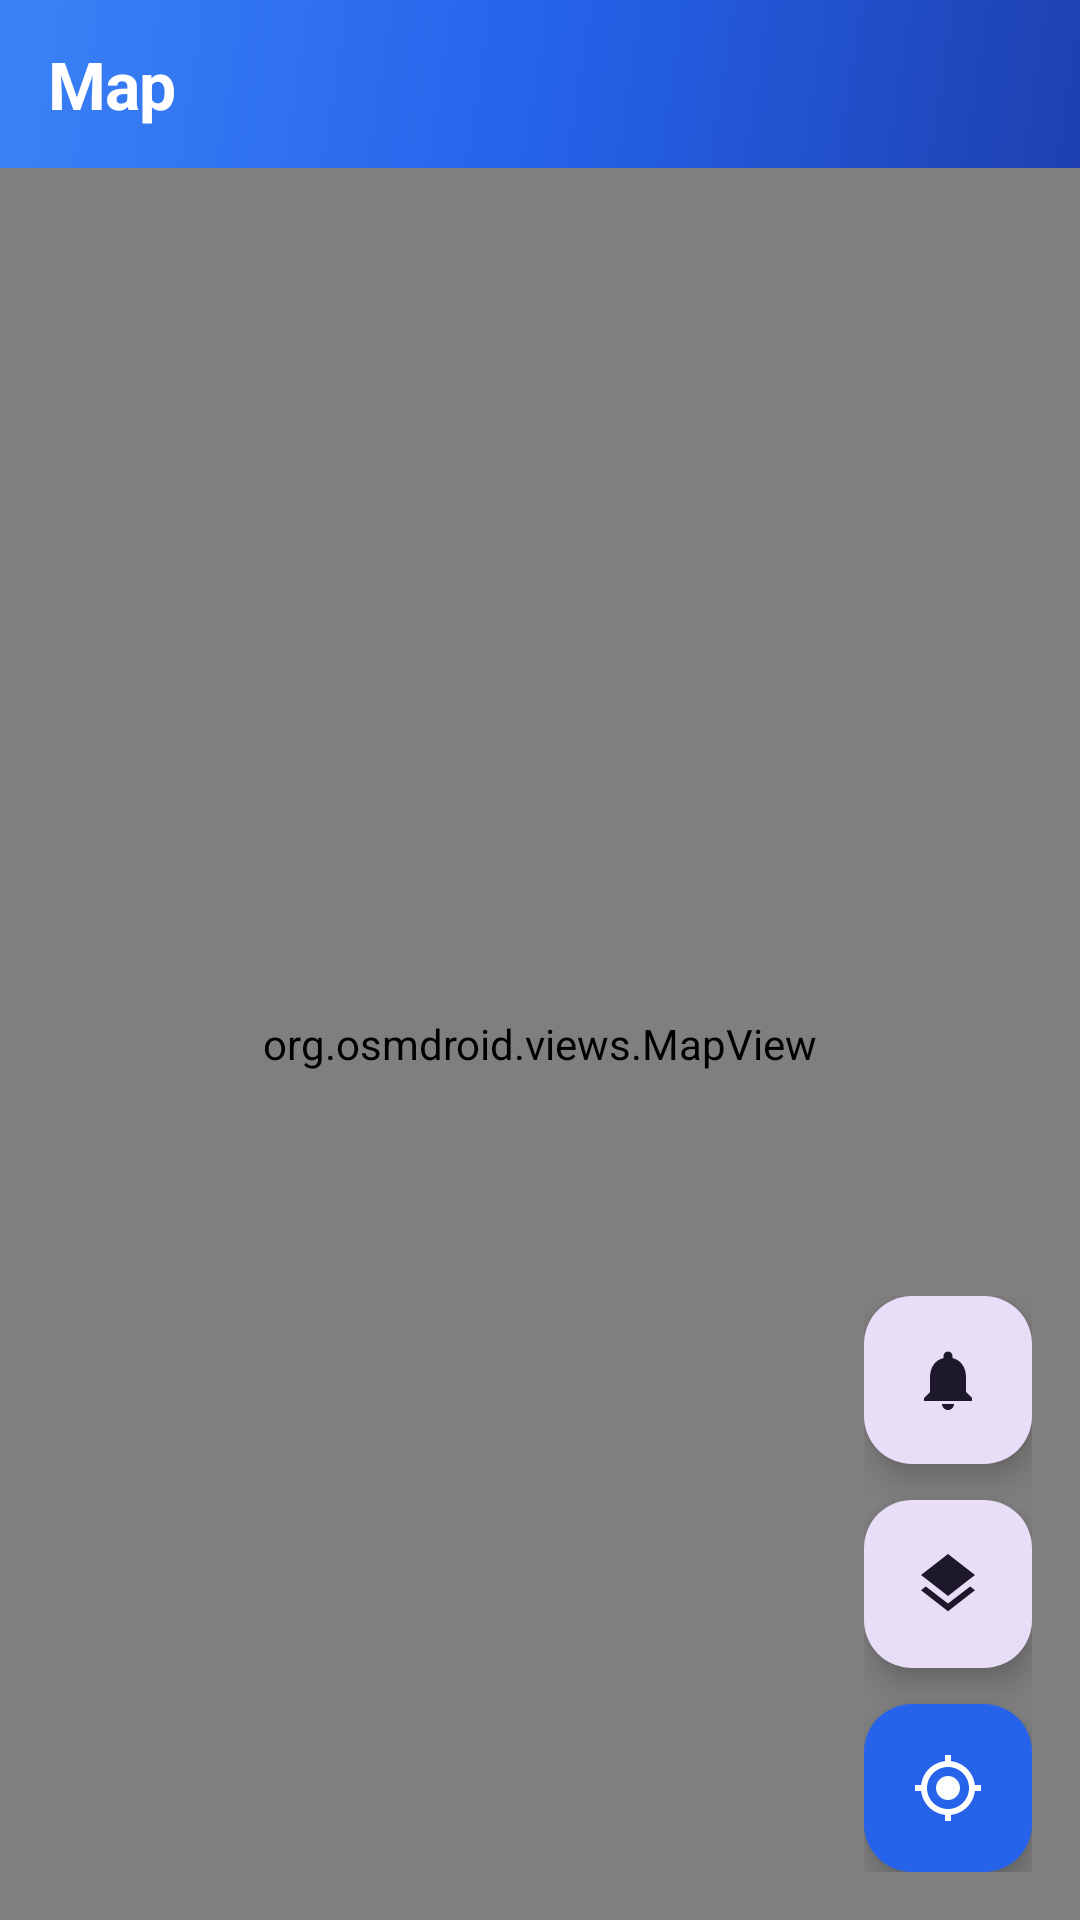

Point at icon controls on the screen. Image size 1080w x 1920h, points as (x=x, y=y).
Map Layers: (x=948, y=1584)
My Location: (x=948, y=1788)
